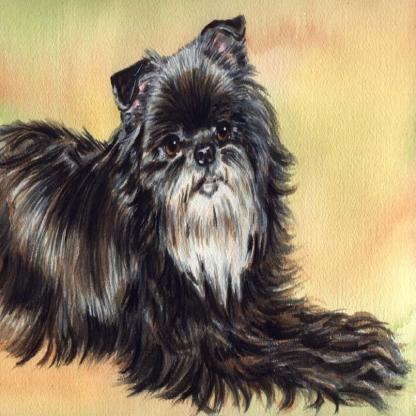affenpinscher: (0, 11, 414, 413)
